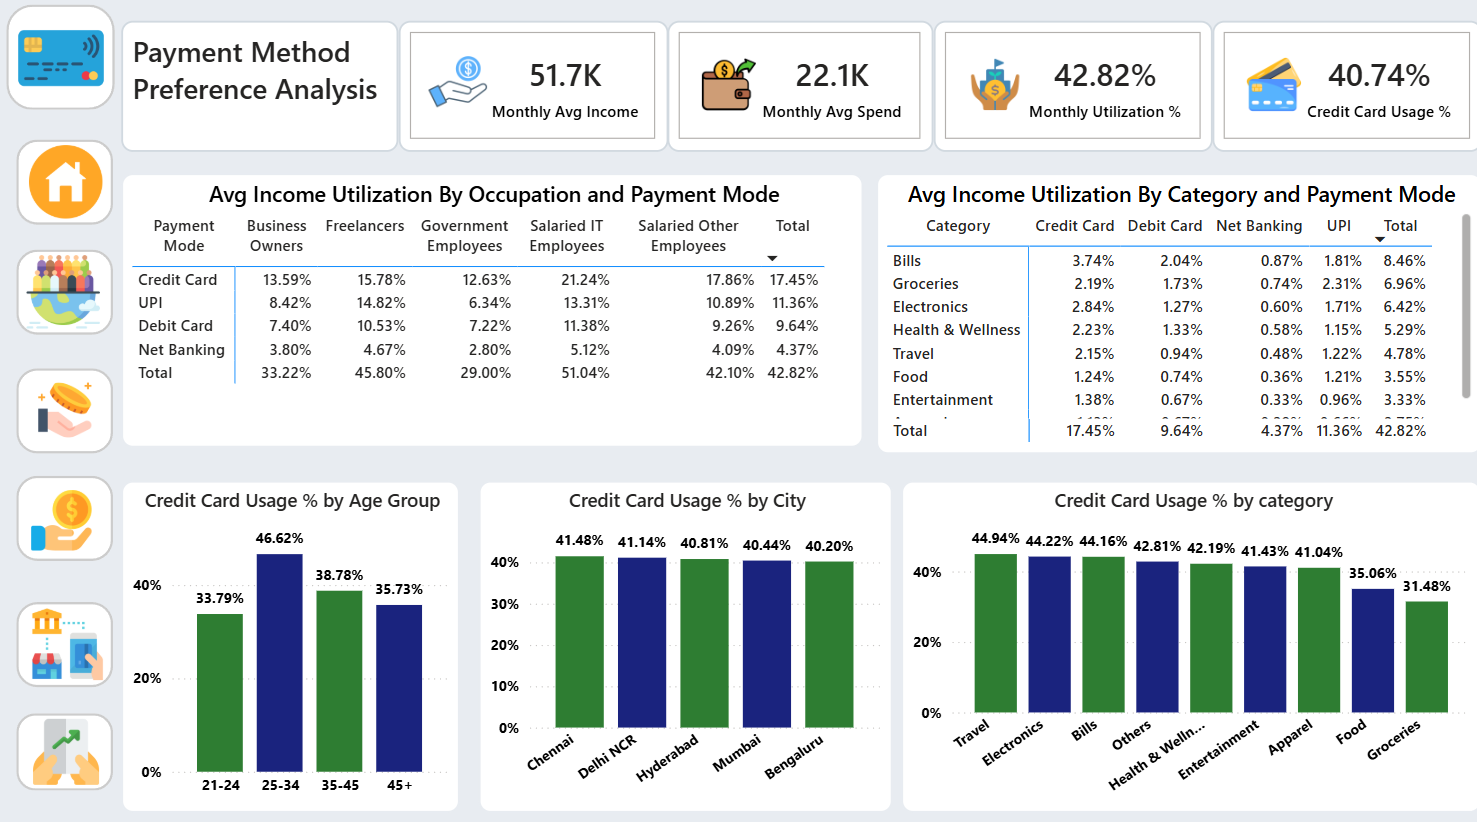

What the dashboard file says about the page in this screenshot:
{"tool":"powerbi","page":{"name":"Payment Method Preference Analysis","canvas":[1280,720],"ordinal":4},"visuals":[{"type":"shape","box":[10,10.6,93.3,90.7],"z":0,"group":"g1"},{"type":"pivotTable","title":"Avg Income Utilization By Occupation and Payment Mode","fields":{"Rows":["Fact Spends.payment_type"],"Columns":["Dim Customers.occupation"],"Values":["DAX Measures.Monthly Avg Income Utilization"]},"box":[108.6,155.7,638.6,235.7],"z":0},{"type":"image","box":[13.9,10,86.1,96.7],"z":1000,"group":"g1"},{"type":"pivotTable","title":"Avg Income Utilization By Category and Payment Mode","fields":{"Values":["DAX Measures.Monthly Avg Income Utilization"],"Columns":["Fact Spends.payment_type"],"Rows":["Fact Spends.category"]},"box":[757.6,155.6,522.4,241.3],"z":1000},{"type":"columnChart","fields":{"Category":["Fact Spends.category"],"Y":["DAX Measures.Credit Card Usage %"]},"box":[780,420,500,285.7],"z":2000},{"type":"columnChart","title":"Credit Card Usage % by City","fields":{"Category":["Dim Customers.city"],"Y":["DAX Measures.Credit Card Usage %"]},"box":[415.7,420,355.7,285.7],"z":3000},{"type":"columnChart","title":"Credit Card Usage % by Age Group","fields":{"Category":["Dim Customers.age_group"],"Y":["DAX Measures.Credit Card Usage %"]},"box":[108.6,420,291.4,285.7],"z":4000},{"type":"cardVisual","fields":{"Data":["DAX Measures.Monthly Avg Income"]},"box":[347.2,24.7,231.9,112.5],"z":5000},{"type":"cardVisual","fields":{"Data":["DAX Measures.Monthly Avg Spend"]},"box":[578.6,24.3,228.6,112.9],"z":6000},{"type":"cardVisual","fields":{"Data":["DAX Measures.Monthly Avg Income Utilization"]},"box":[807.1,24.3,240,112.9],"z":7000},{"type":"cardVisual","fields":{"Data":["DAX Measures.Credit Card Usage %"]},"box":[1047.1,24.3,232.9,112.9],"z":8000},{"type":"textbox","box":[108.6,24.3,238.6,112.9],"z":9000},{"type":"shape","box":[18.3,620,83.3,66.7],"z":10000},{"type":"shape","box":[18.3,525,83.3,73.3],"z":11000},{"type":"shape","box":[18.3,416.7,83.3,73.3],"z":12000},{"type":"shape","box":[18.3,323.3,83.3,73.3],"z":13000},{"type":"shape","box":[18.3,221.7,83.3,73.3],"z":14000},{"type":"shape","box":[18.3,126.7,83.3,73.3],"z":15000},{"type":"image","box":[20,126.7,80,73.3],"z":16000},{"type":"image","box":[18.3,221.7,80,73.3],"z":17000},{"type":"image","box":[30,331.7,60,56.7],"z":18000},{"type":"image","box":[21.7,423.3,71.7,61.7],"z":19000},{"type":"image","box":[26.7,525,71.7,73.3],"z":20000},{"type":"image","box":[25,620,73.3,66.7],"z":21000},{"type":"group","id":"g1","title":"Group 1","box":[10,10,93.3,96.7],"z":22000}]}

Visuals, with their boxes in screenshot pixels (x1, y1, x2, y2), scaled from the page's 1280x720 canvas onto the 1477x822 screenshot:
shape: (x1=12, y1=12, x2=119, y2=116)
"Avg Income Utilization By Occupation and Payment Mode" pivotTable: (x1=125, y1=178, x2=862, y2=447)
image: (x1=16, y1=11, x2=115, y2=122)
"Avg Income Utilization By Category and Payment Mode" pivotTable: (x1=874, y1=178, x2=1476, y2=453)
columnChart - Fact Spends.category x DAX Measures.Credit Card Usage %: (x1=900, y1=480, x2=1476, y2=806)
"Credit Card Usage % by City" columnChart: (x1=480, y1=480, x2=890, y2=806)
"Credit Card Usage % by Age Group" columnChart: (x1=125, y1=480, x2=462, y2=806)
cardVisual - DAX Measures.Monthly Avg Income: (x1=401, y1=28, x2=668, y2=157)
cardVisual - DAX Measures.Monthly Avg Spend: (x1=668, y1=28, x2=931, y2=157)
cardVisual - DAX Measures.Monthly Avg Income Utilization: (x1=931, y1=28, x2=1208, y2=157)
cardVisual - DAX Measures.Credit Card Usage %: (x1=1208, y1=28, x2=1476, y2=157)
textbox: (x1=125, y1=28, x2=401, y2=157)
shape: (x1=21, y1=708, x2=117, y2=784)
shape: (x1=21, y1=599, x2=117, y2=683)
shape: (x1=21, y1=476, x2=117, y2=559)
shape: (x1=21, y1=369, x2=117, y2=453)
shape: (x1=21, y1=253, x2=117, y2=337)
shape: (x1=21, y1=145, x2=117, y2=228)
image: (x1=23, y1=145, x2=115, y2=228)
image: (x1=21, y1=253, x2=113, y2=337)
image: (x1=35, y1=379, x2=104, y2=443)
image: (x1=25, y1=483, x2=108, y2=554)
image: (x1=31, y1=599, x2=114, y2=683)
image: (x1=29, y1=708, x2=113, y2=784)
"Group 1" group: (x1=12, y1=11, x2=119, y2=122)
